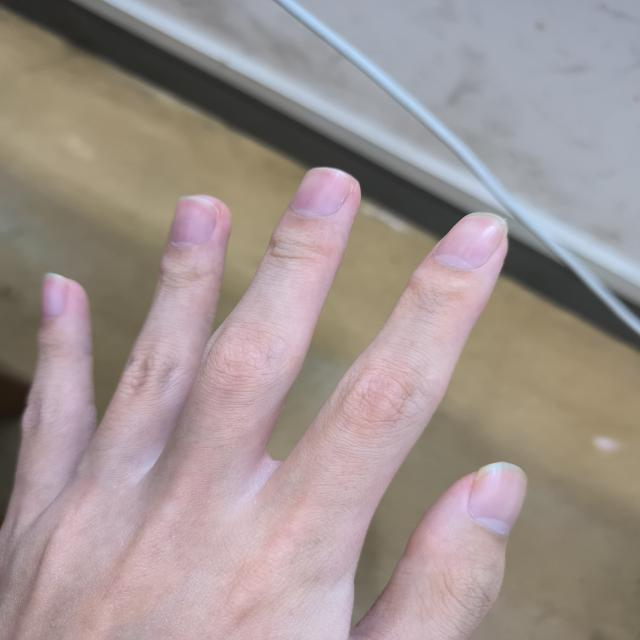Nail: (469, 462, 528, 532), (435, 212, 507, 269), (291, 168, 352, 217), (170, 197, 219, 246), (42, 273, 66, 320)
